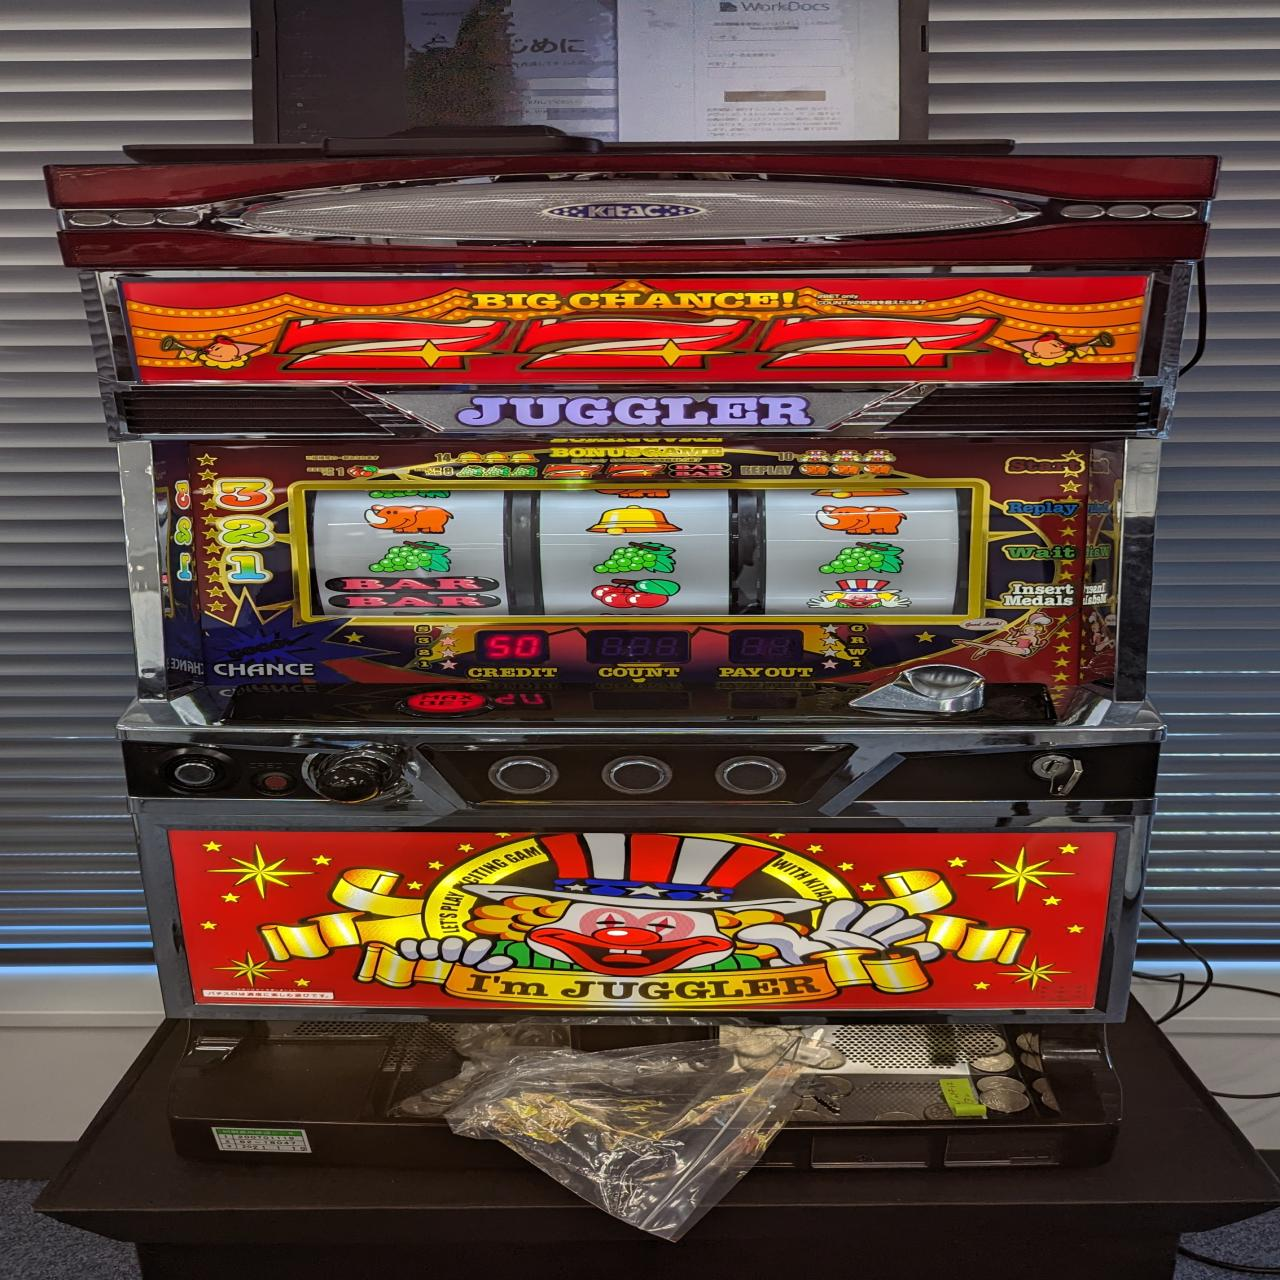Display: (297, 483, 975, 621)
bar: (325, 576, 498, 610)
bell: (584, 505, 685, 536)
cherry: (590, 578, 685, 607)
clown: (805, 579, 912, 613)
grape: (368, 539, 456, 573), (593, 542, 676, 576), (821, 543, 905, 576)
rhino: (359, 502, 457, 535), (816, 502, 908, 536)
